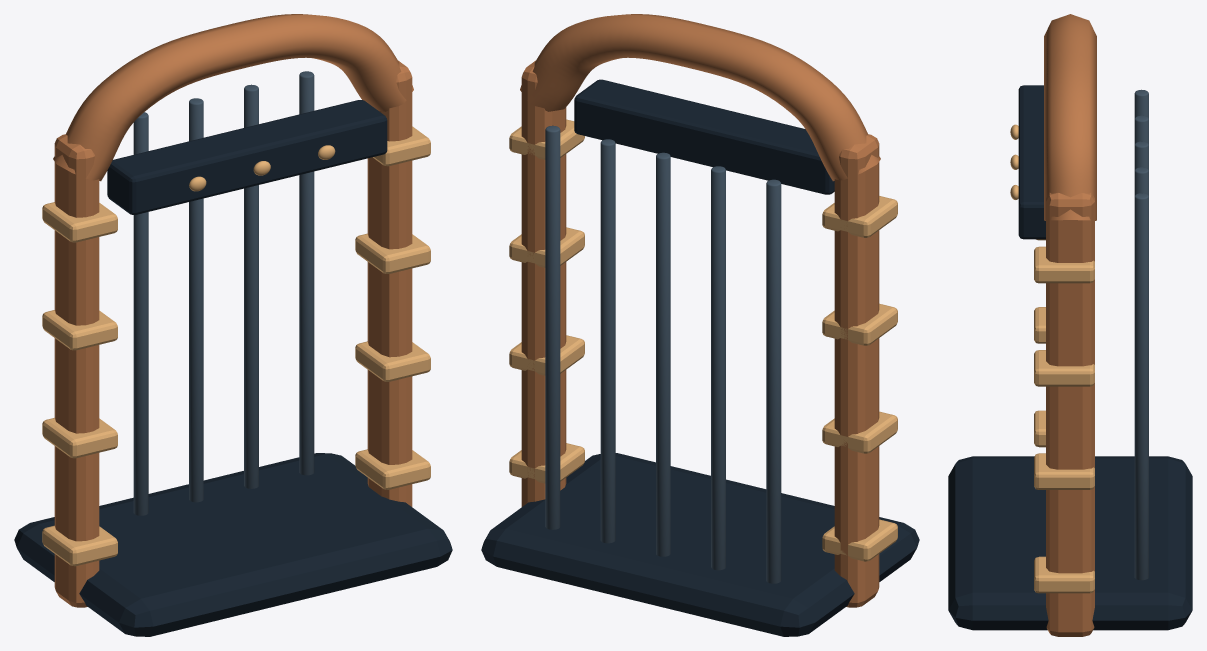
3 views of the same model, side by side, from view 1: azimuth 30°, elevation 25°; view 2: azimuth 150°, elevation 25°; view 3: azimuth 270°, elevation 25° (orthographic). The views are drawn at different scales.
Parts seen in each view (by area): view 1: PR001_base, PR001_crown, PR001_header, PR001_upright, PR001_upright.001, PR001_gate_bar.004, PR001_gate_bar.001, PR001_gate_bar.002, PR001_gate_bar.003, PR001_brace.002, PR001_brace.003, PR001_brace.004 (+5 smaller); view 2: PR001_base, PR001_crown, PR001_upright, PR001_header, PR001_upright.001, PR001_gate_bar, PR001_gate_bar.003, PR001_gate_bar.004, PR001_gate_bar.001, PR001_gate_bar.002, PR001_brace.003, PR001_brace.002 (+6 smaller); view 3: PR001_base, PR001_upright.001, PR001_crown, PR001_gate_bar.004, PR001_header, PR001_brace.007, PR001_brace.004, PR001_brace.006, PR001_brace.005, PR001_brace, PR001_brace.001, PR001_gate_bar.003 (+3 smaller).
Boxes of the visible parts, x1,y1,x2,y2 form: PR001_base: (14,453,452,636); PR001_crown: (53,14,413,181); PR001_header: (107,100,387,214); PR001_upright: (54,134,99,607); PR001_upright.001: (367,60,412,506); PR001_gate_bar.004: (299,71,314,475); PR001_gate_bar.001: (133,112,148,515); PR001_gate_bar.002: (189,98,203,502); PR001_gate_bar.003: (244,84,258,488); PR001_brace.002: (42,310,117,350); PR001_brace.003: (42,202,117,242); PR001_brace.004: (355,449,430,489); PR001_base: (481,453,919,636); PR001_crown: (520,14,880,181); PR001_upright: (834,134,879,607); PR001_header: (574,79,834,194); PR001_upright.001: (521,60,566,506); PR001_gate_bar: (766,179,781,583); PR001_gate_bar.003: (600,139,615,543); PR001_gate_bar.004: (545,125,560,529); PR001_gate_bar.001: (711,166,725,570); PR001_gate_bar.002: (656,152,670,556); PR001_brace.003: (822,196,897,237); PR001_brace.002: (822,303,897,345); PR001_base: (948,456,1192,630); PR001_upright.001: (1046,192,1094,636); PR001_crown: (1044,14,1096,220); PR001_gate_bar.004: (1134,193,1148,580); PR001_header: (1018,85,1045,239); PR001_brace.007: (1034,246,1094,283); PR001_brace.004: (1034,556,1094,593); PR001_brace.006: (1034,350,1094,386); PR001_brace.005: (1034,453,1094,489); PR001_brace: (1034,410,1045,447); PR001_brace.001: (1034,307,1045,343); PR001_gate_bar.003: (1134,167,1148,196).
Bounding box in the file's own units: 1.96 × 2.78 × 1.2.
